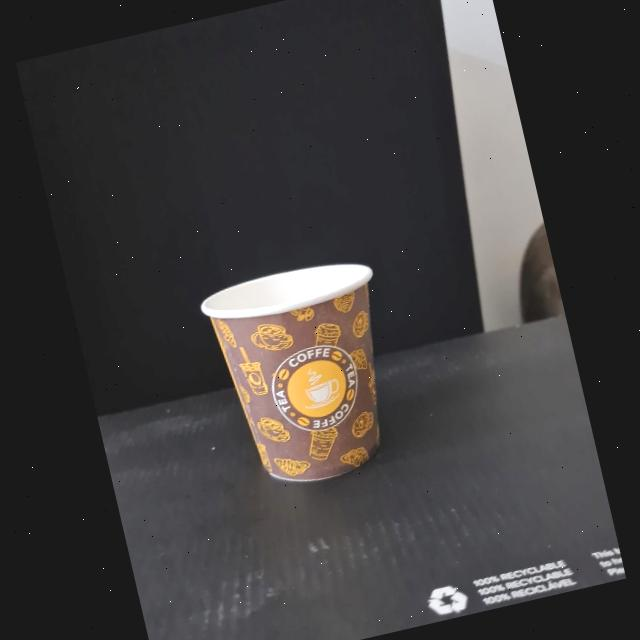trash: (156, 225, 450, 534)
